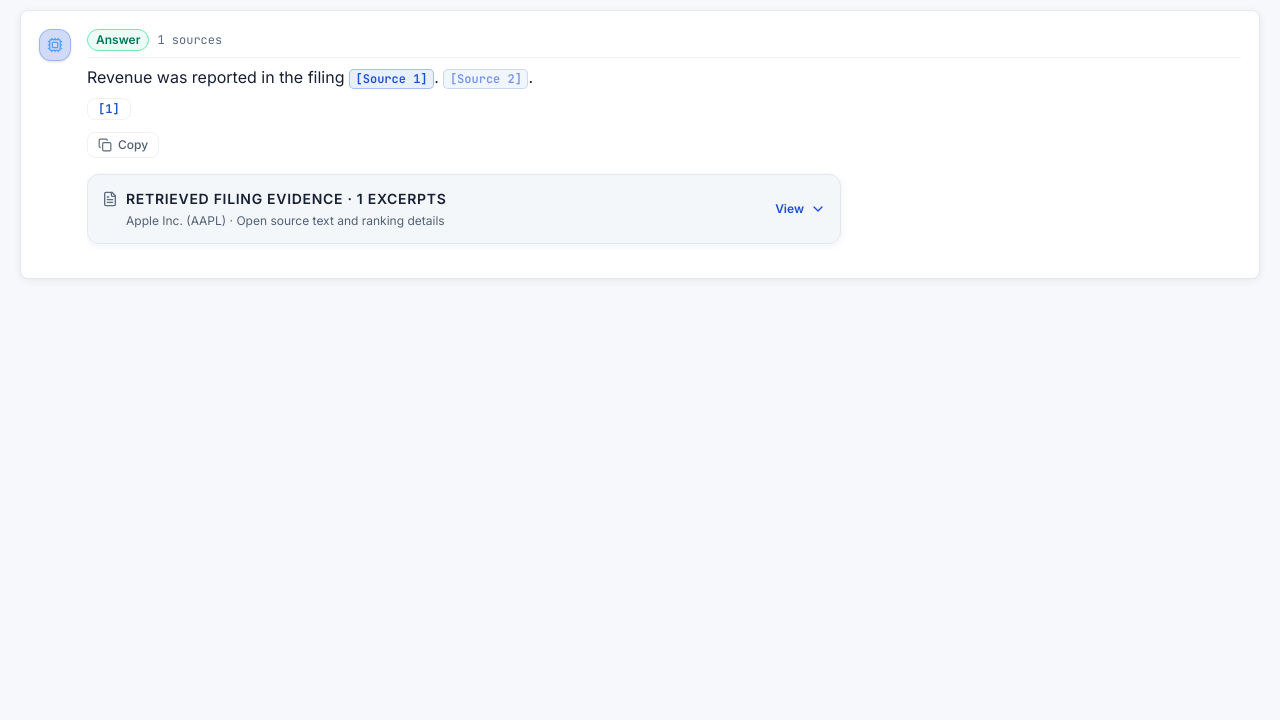
ChatMessage › citation buttons open and focus the matching source excerpt
Click the button with aria-label "Open source 1". click: [392, 79]
box: [349,69,434,89]
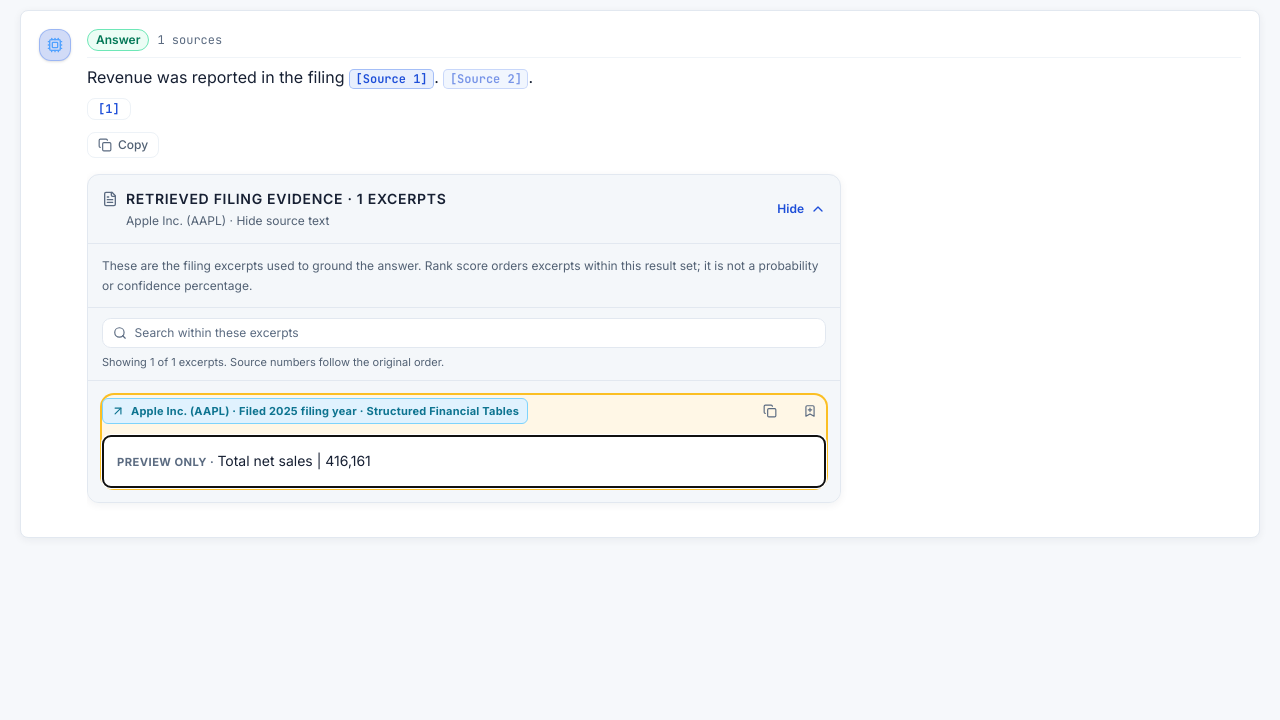
Now the text "Total net sales | 416,161" is shown, box [217,452,371,469]
